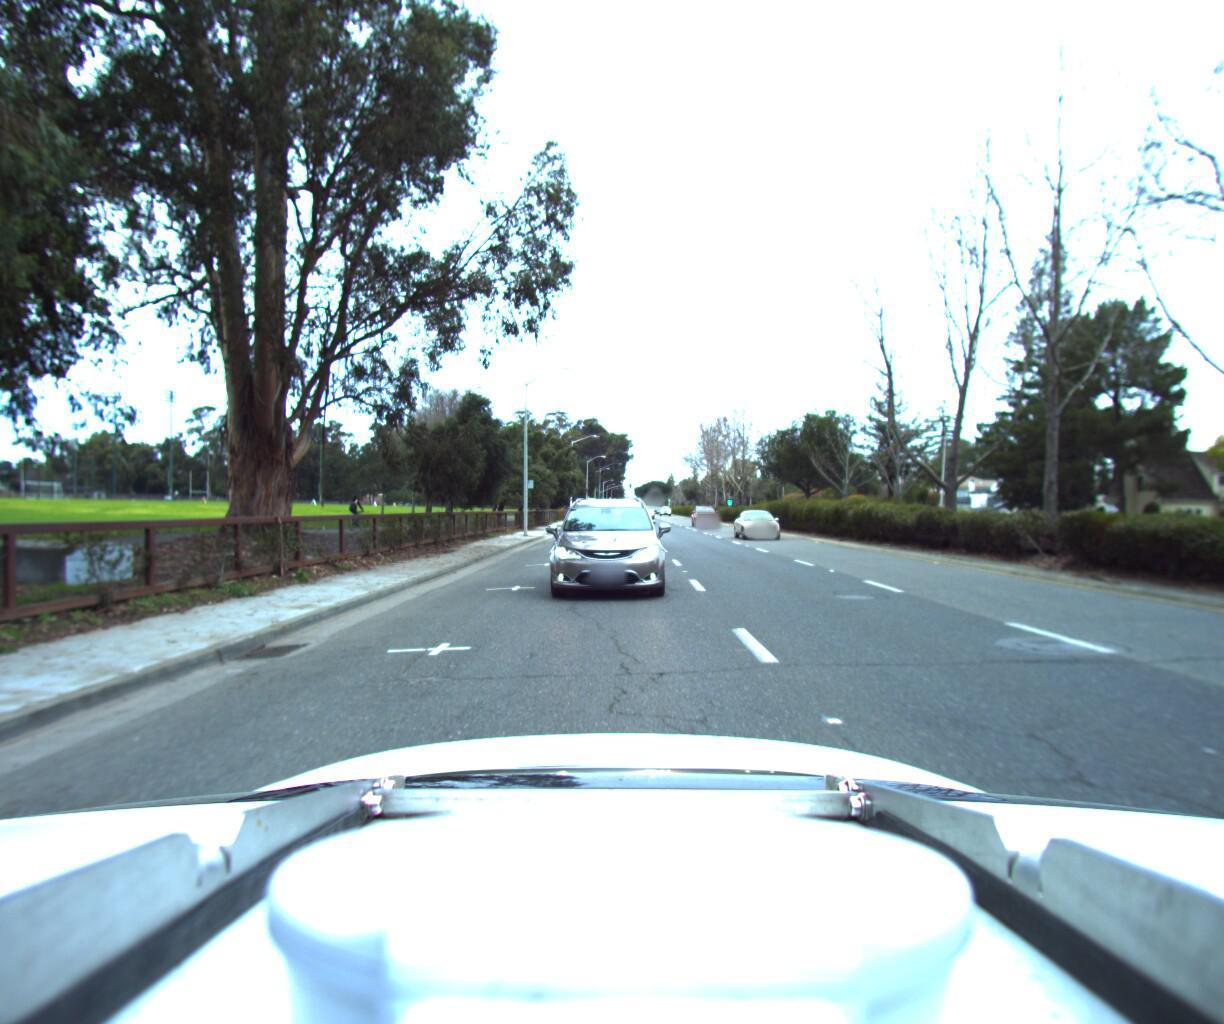bicycle: (339, 486, 368, 527)
car: (542, 492, 664, 602), (735, 504, 787, 537), (690, 498, 720, 520)
